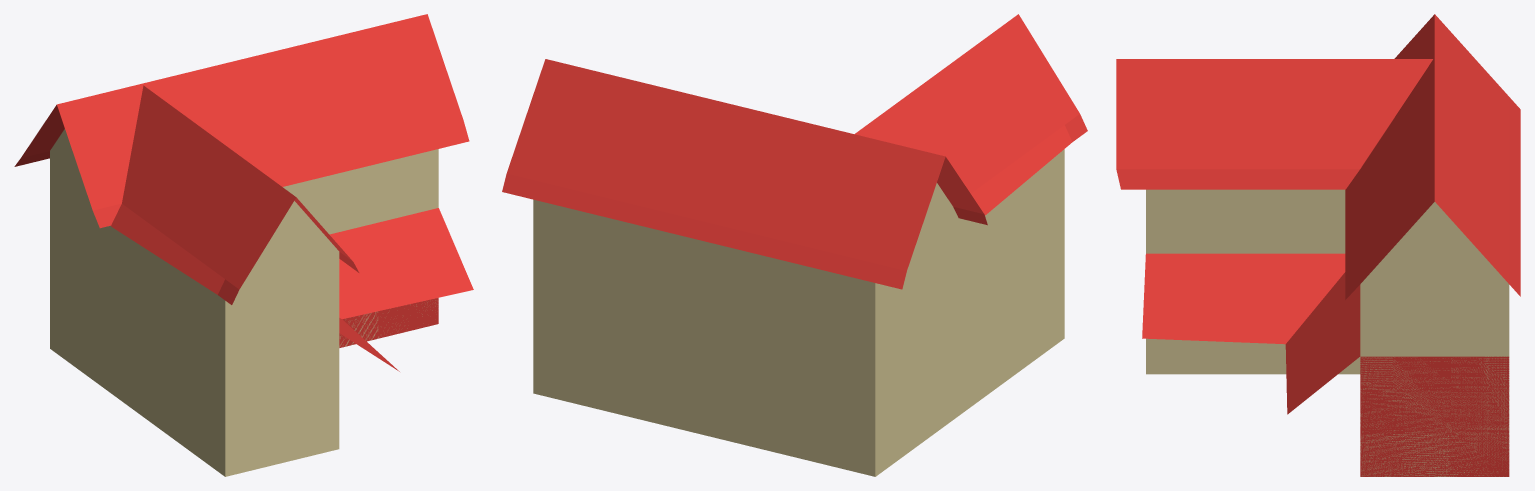
The model's file is house 2.fbx.
3 renders of one model, left to right at view 1: azimuth 30°, elevation 25°; view 2: azimuth 150°, elevation 25°; view 3: azimuth 270°, elevation 25°, orthographic. The views are drawn at different scales.
Visible parts, largest first — view 1: Cube; view 2: Cube; view 3: Cube.
Boxes of the visible parts, x1=… form: Cube: x1=14, y1=14, x2=473, y2=476; Cube: x1=502, y1=14, x2=1087, y2=476; Cube: x1=1116, y1=14, x2=1520, y2=476.
Bounding box in the file's own units: 1506 × 1074 × 1367.
